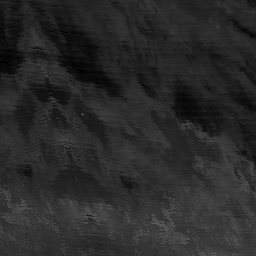Target: (79, 112, 84, 117)
